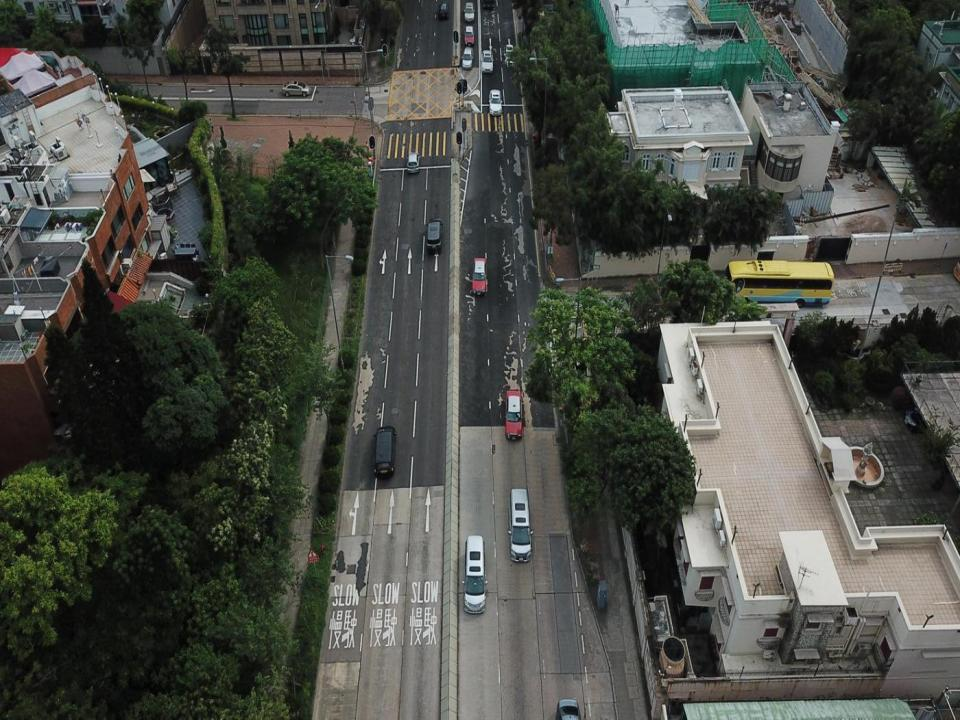bus: (722, 258, 834, 310)
car: (505, 390, 522, 440), (471, 256, 486, 297), (556, 696, 582, 719), (281, 80, 311, 96), (489, 89, 503, 116), (481, 48, 494, 72), (461, 45, 474, 69), (407, 150, 418, 174), (504, 41, 514, 65), (462, 1, 474, 20), (438, 1, 449, 20), (464, 24, 474, 43)
van: (508, 486, 534, 563), (462, 535, 486, 612), (376, 424, 395, 478), (426, 216, 442, 251)
